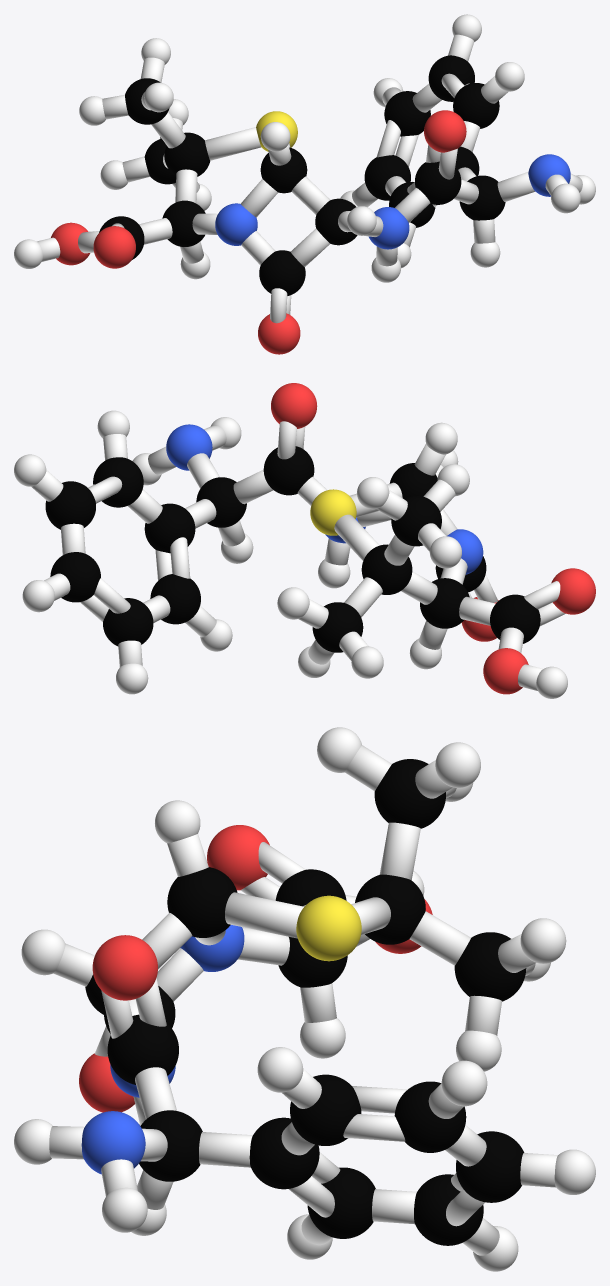
3 renders of one model, top to bottom at view 1: azimuth 30°, elevation 25°; view 2: azimuth 150°, elevation 25°; view 3: azimuth 270°, elevation 25°, orthographic. The views are drawn at different scales.
Parts seen in each view (by area): view 1: molecule; view 2: molecule; view 3: molecule.
Boxes of the visible parts, <box> form: molecule: <box>14,14,595,354</box>; molecule: <box>14,383,595,698</box>; molecule: <box>14,727,595,1271</box>.
Bounding box in the file's own units: 11.39 × 5.35 × 7.65.
